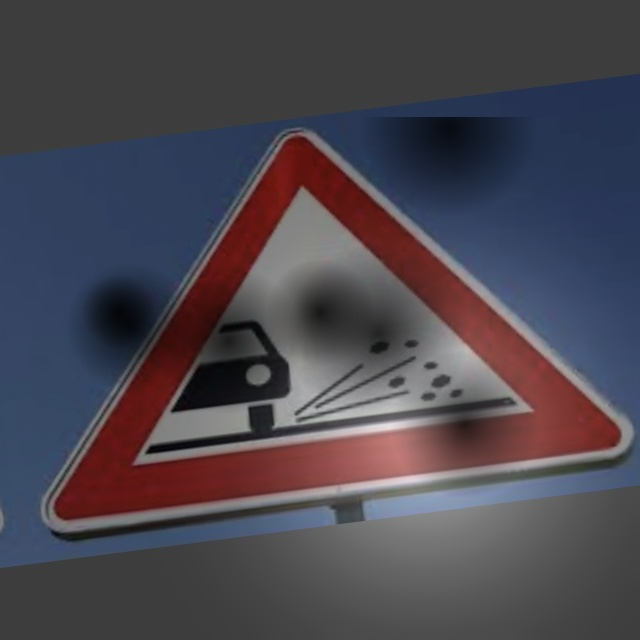Loose_Gravel: (48, 117, 605, 527)
